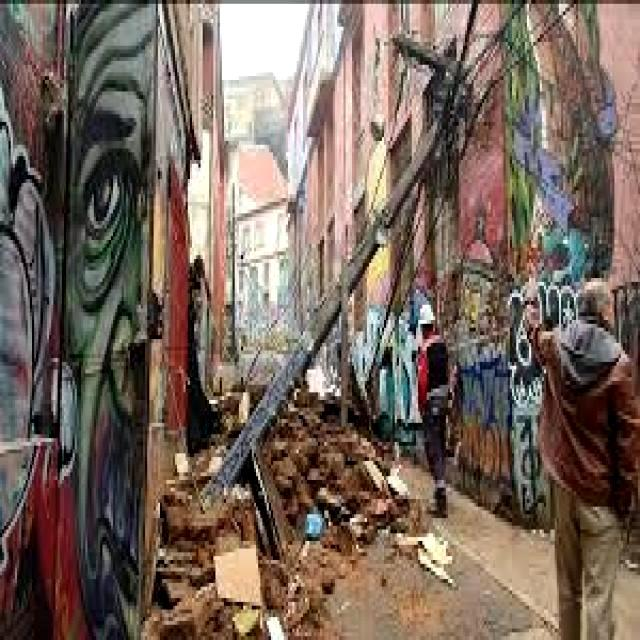Broken Pole: (224, 46, 472, 555)
